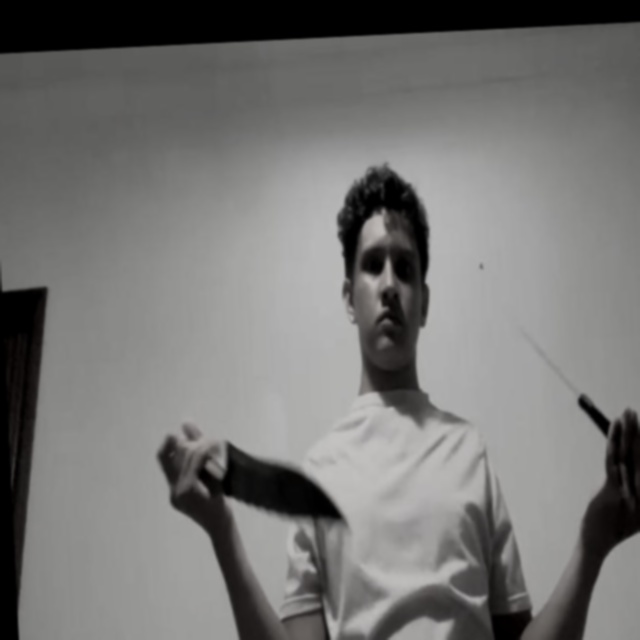Sharp-Object: (225, 432, 343, 523)
